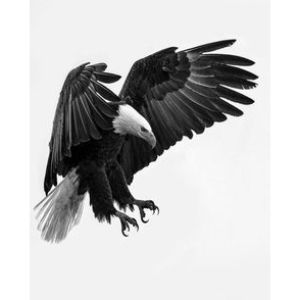eagle: (33, 37, 260, 249)
